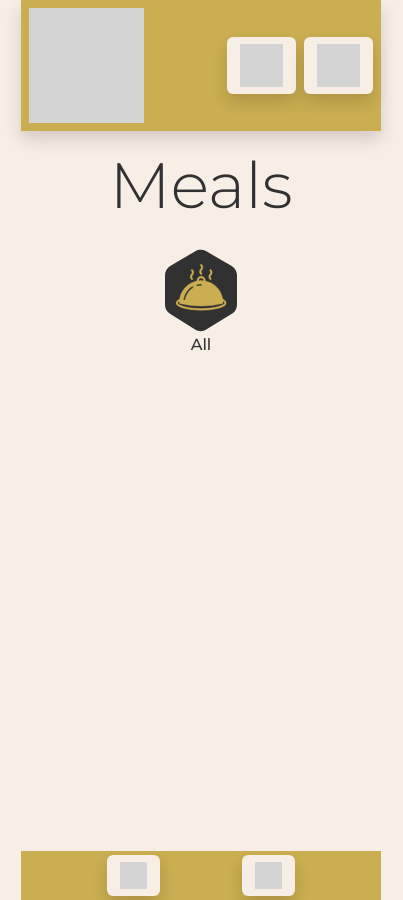
Test case: Testa o Header por completo › Verifica se ao clicar no botão profile a tela muda para /profile
Click the button with test id "profile-top-btn". click: click(339, 65)
box: x1=304 y1=37 x2=373 y2=94
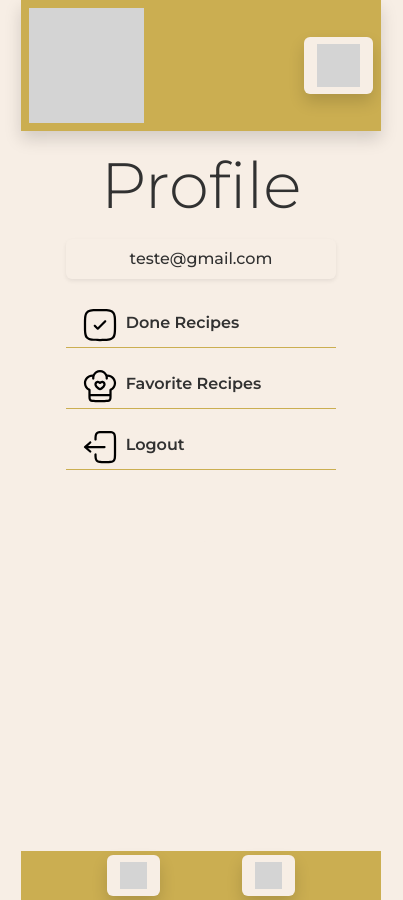
Check: the heading "Profile" is shown, box x1=101 y1=147 x2=301 y2=224
